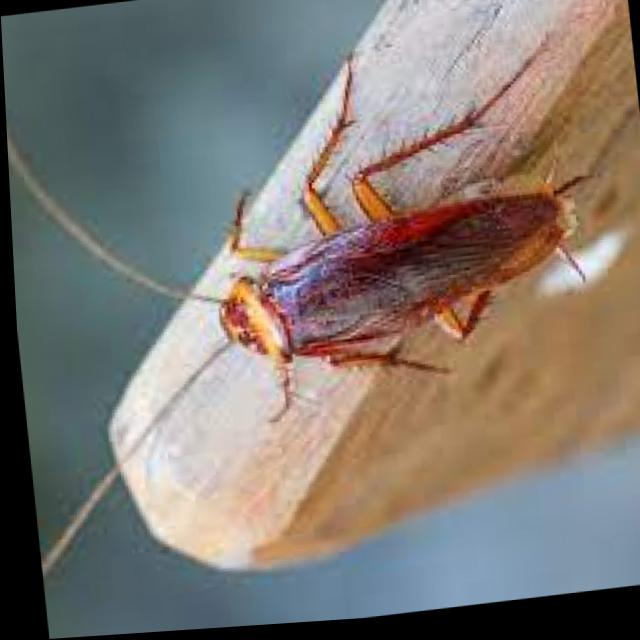Cockroach: (2, 12, 640, 588)
